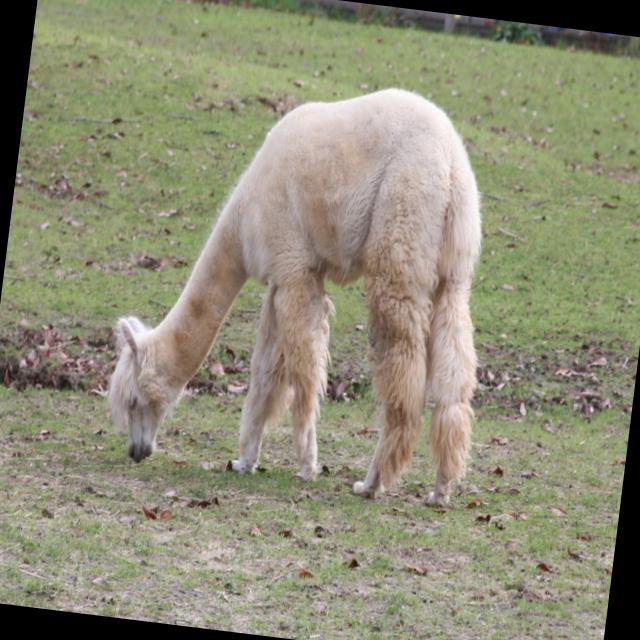alpaca: (99, 56, 512, 510)
